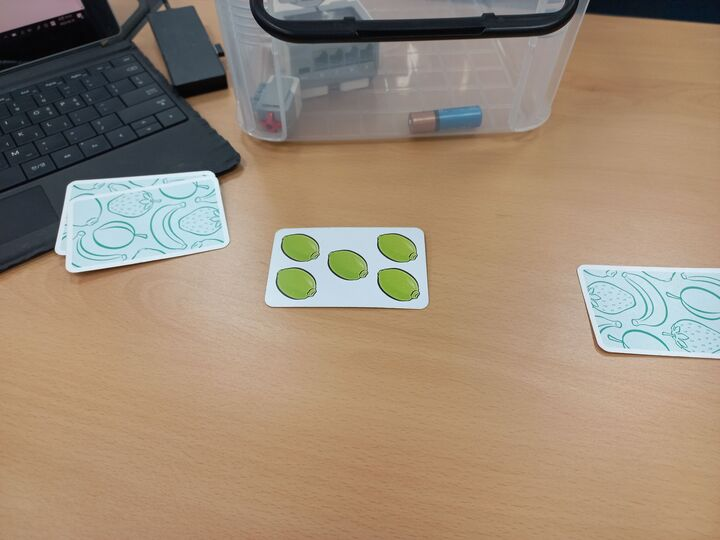lime5: (265, 225, 431, 310)
